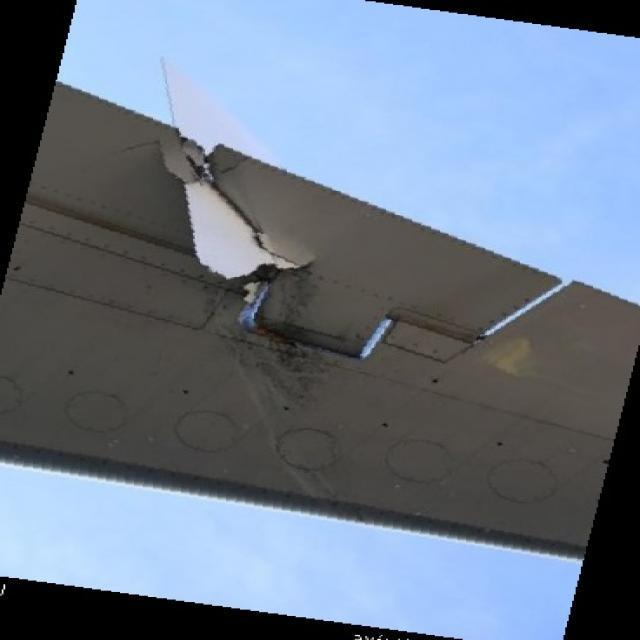crack: (80, 139, 327, 287)
